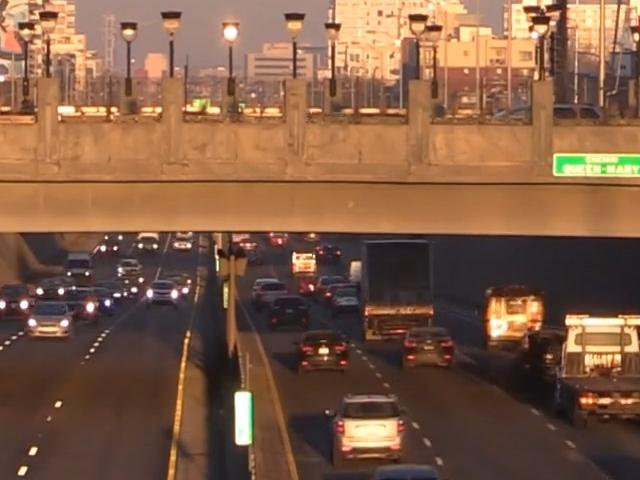car: (333, 399, 407, 458), (400, 323, 457, 370), (295, 329, 357, 372), (360, 461, 455, 480), (28, 301, 73, 336), (0, 279, 35, 316), (272, 298, 311, 327), (253, 279, 290, 308), (66, 290, 104, 316), (146, 282, 182, 308), (331, 287, 364, 314), (88, 285, 117, 314), (35, 276, 67, 298), (113, 280, 143, 301), (100, 280, 126, 298)
truck: (356, 241, 446, 341), (560, 314, 640, 421), (471, 279, 552, 351)
van: (66, 249, 100, 285)
